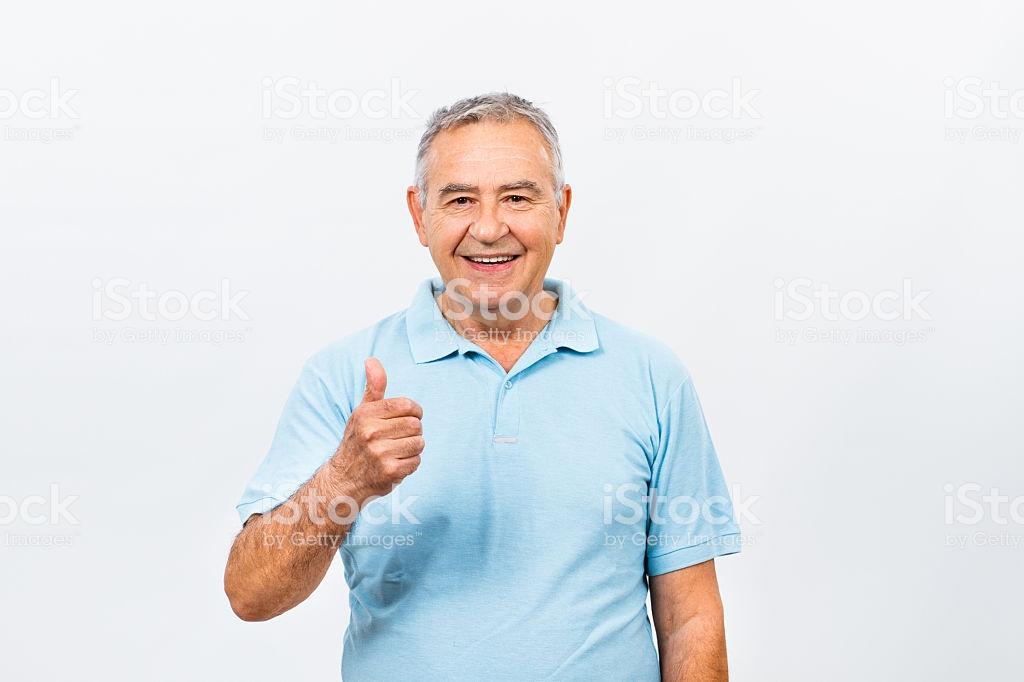thumbsup: (343, 352, 427, 502)
